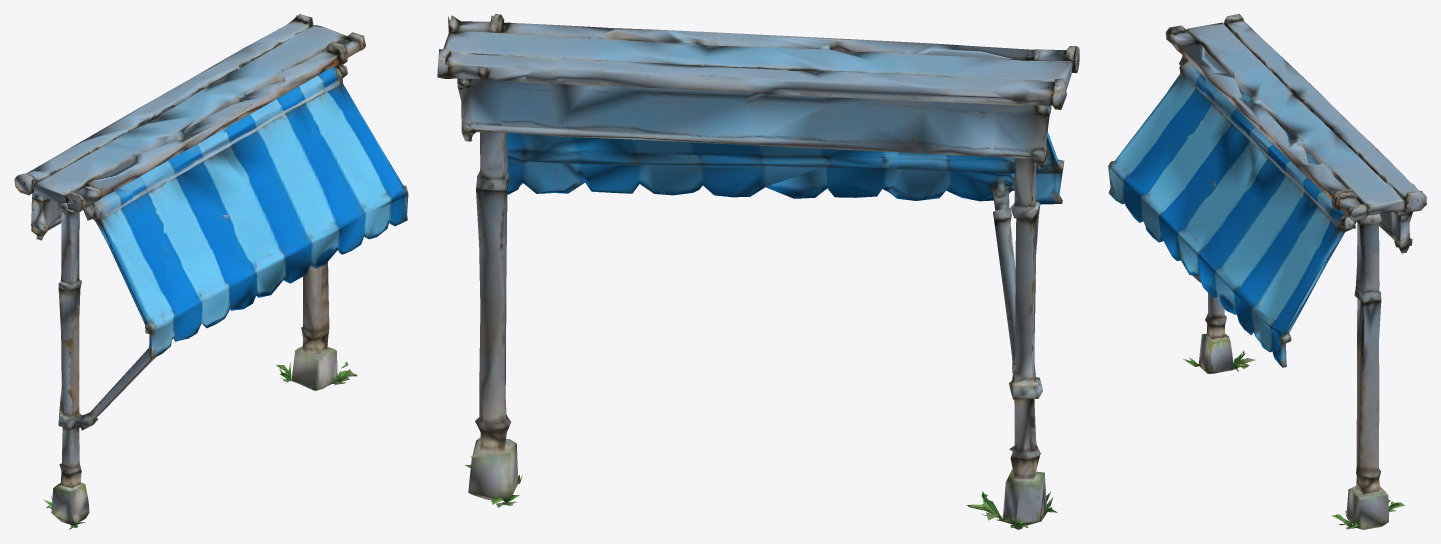
Rendered from env_awning.glb.
3 renders of one model, left to right at view 1: azimuth 30°, elevation 25°; view 2: azimuth 150°, elevation 25°; view 3: azimuth 270°, elevation 25°, orthographic. The views are drawn at different scales.
Parts seen in each view (by area): view 1: tripo_node_194c86d7-171a-4e83-9a76-5c8d4cd238a5; view 2: tripo_node_194c86d7-171a-4e83-9a76-5c8d4cd238a5; view 3: tripo_node_194c86d7-171a-4e83-9a76-5c8d4cd238a5.
Part boxes in pixels (bbox=[...]): tripo_node_194c86d7-171a-4e83-9a76-5c8d4cd238a5: bbox=[14, 14, 408, 529]; tripo_node_194c86d7-171a-4e83-9a76-5c8d4cd238a5: bbox=[437, 14, 1079, 529]; tripo_node_194c86d7-171a-4e83-9a76-5c8d4cd238a5: bbox=[1108, 14, 1426, 529].
Size of the model in its own units: 0.9776 by 0.7769 by 0.667.
1 material, 1 textured.
